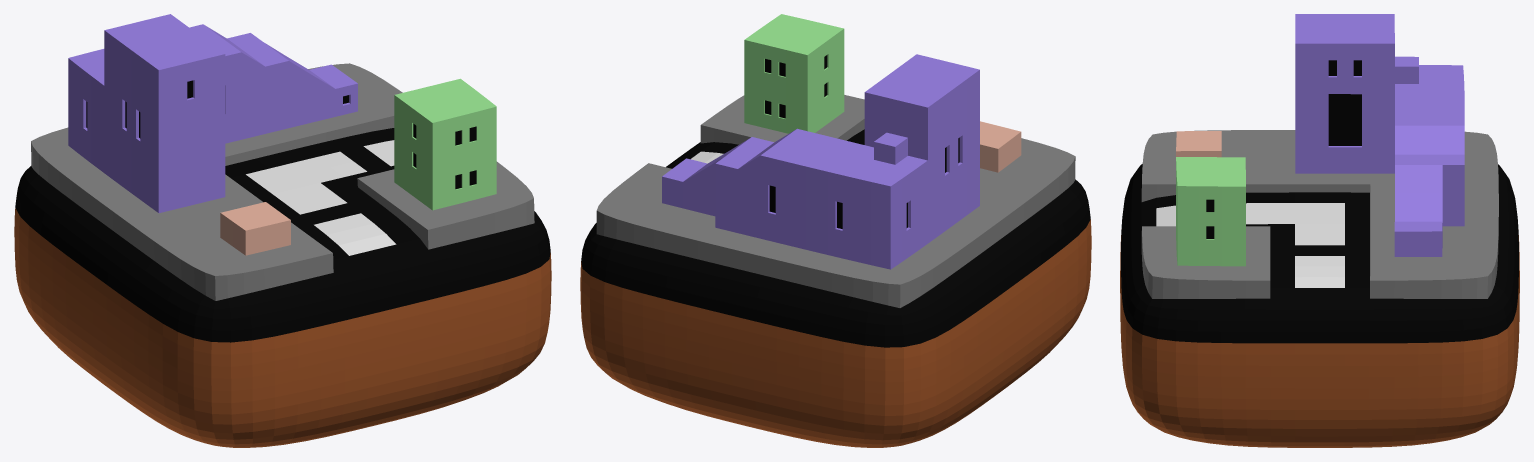
File: platformTourneVille.fbx
The picture shows the model from 3 angles, left to right: view 1: azimuth 30°, elevation 25°; view 2: azimuth 150°, elevation 25°; view 3: azimuth 270°, elevation 25°; orthographic projection. The views are drawn at different scales.
Parts seen in each view (by area): view 1: ville turn; view 2: ville turn; view 3: ville turn.
Part boxes in pixels (bbox=[...]): ville turn: bbox=[14, 14, 551, 447]; ville turn: bbox=[580, 14, 1091, 447]; ville turn: bbox=[1120, 14, 1519, 447].
Size of the model in its own units: 200 by 176 by 200.
